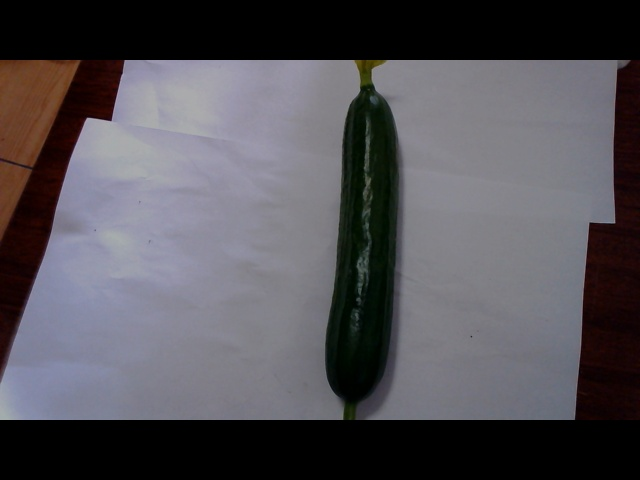cucumber: (313, 67, 408, 416)
